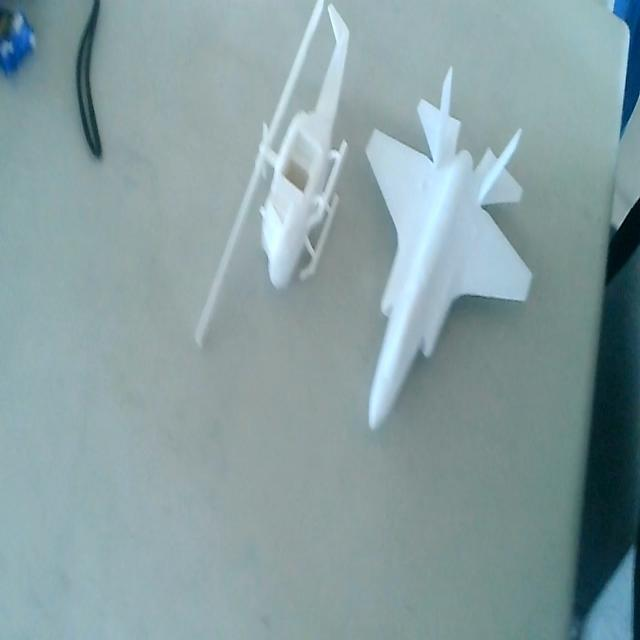Helicopter: (187, 0, 350, 362)
Jet: (356, 61, 537, 432)
